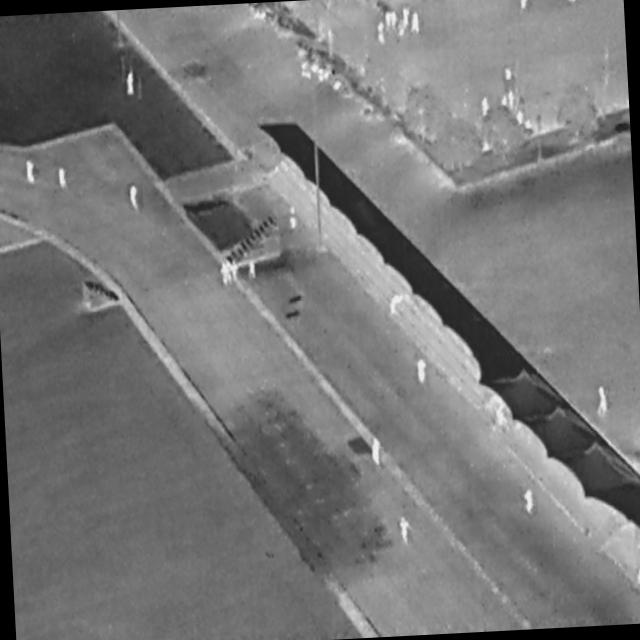person: (491, 397, 507, 432), (596, 384, 611, 421), (399, 515, 413, 545), (370, 436, 382, 469), (129, 183, 142, 213), (417, 358, 428, 386), (289, 207, 299, 233), (524, 489, 534, 514), (27, 160, 37, 184), (59, 167, 68, 190), (412, 13, 421, 36), (127, 71, 135, 95), (482, 97, 491, 117), (233, 261, 241, 282), (226, 262, 234, 283), (222, 264, 229, 285), (379, 23, 386, 44), (250, 260, 257, 280), (392, 12, 399, 31), (505, 68, 513, 84), (516, 111, 524, 127), (399, 22, 406, 40), (404, 8, 411, 26), (510, 91, 516, 112), (386, 12, 392, 31), (527, 119, 534, 132), (521, 1, 529, 11), (502, 95, 508, 106), (569, 1, 578, 5)
